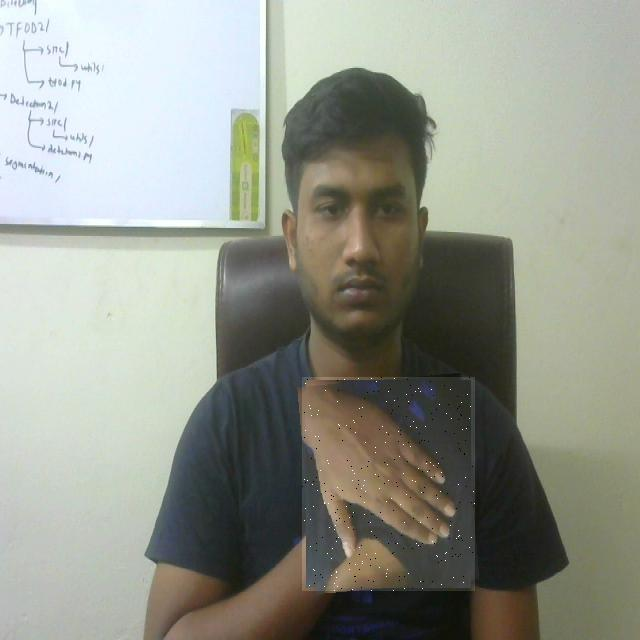Please: (302, 377, 475, 591)
